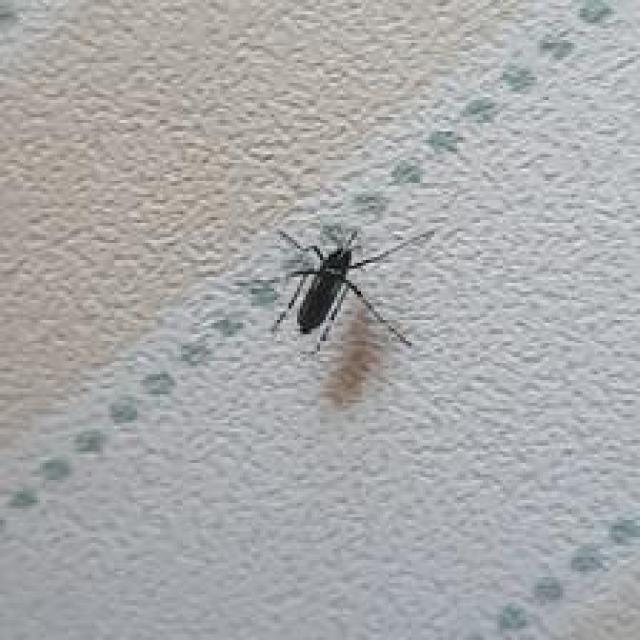Aedes albopictus: (269, 223, 437, 354)
